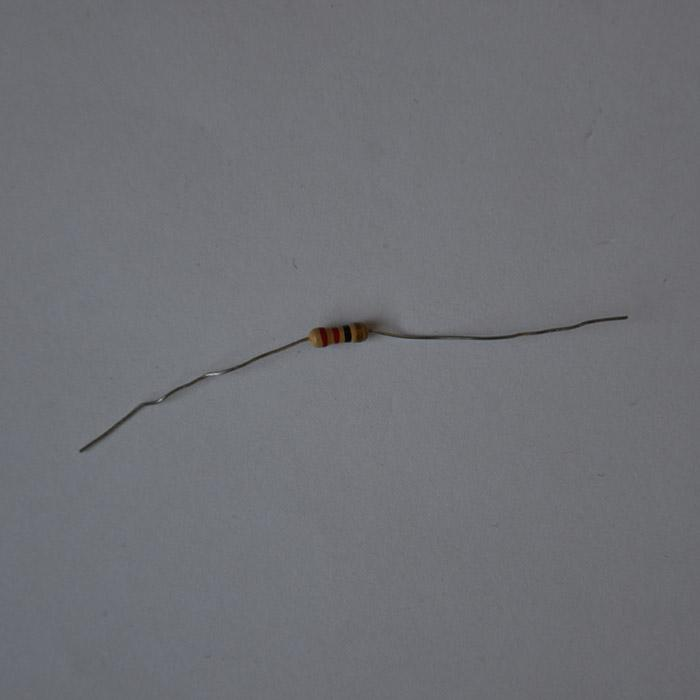resistor: (309, 322, 368, 347)
